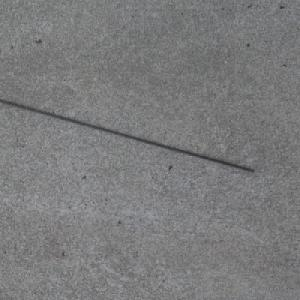LuggagePart: (0, 98, 256, 172)
